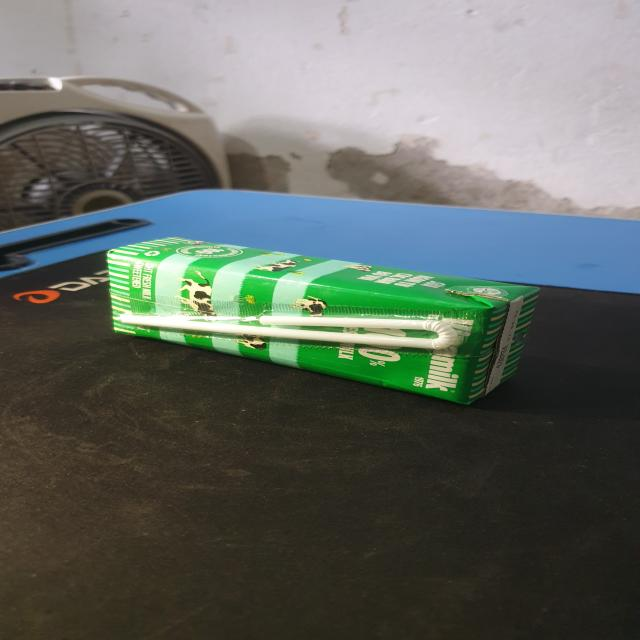Vina: (111, 235, 540, 408)
